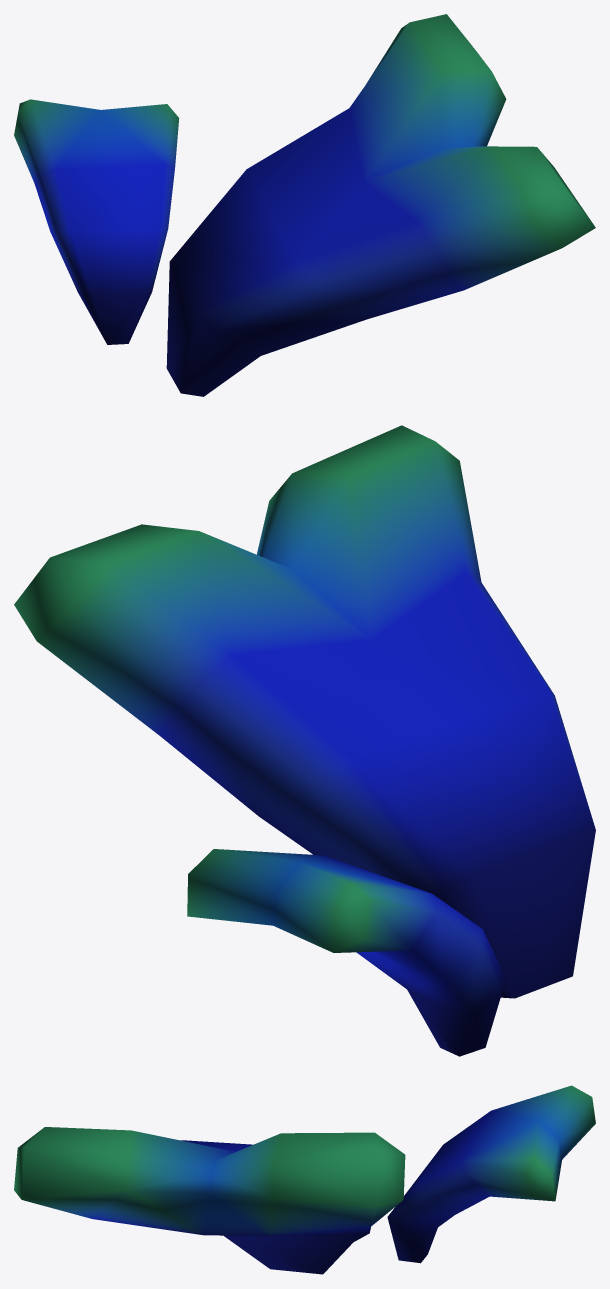
Rendered from Alien_Grass10.fbx.
3 views of the same model, one above another, from view 1: azimuth 30°, elevation 25°; view 2: azimuth 150°, elevation 25°; view 3: azimuth 270°, elevation 25° (orthographic). The views are drawn at different scales.
Visible parts, largest first — view 1: Alien_Grass10; view 2: Alien_Grass10; view 3: Alien_Grass10.
Boxes of the visible parts, <box> form: Alien_Grass10: <box>14,14,595,396</box>; Alien_Grass10: <box>14,425,595,1056</box>; Alien_Grass10: <box>14,1085,595,1274</box>.
Size of the model in its own units: 801 by 551 by 1127.
